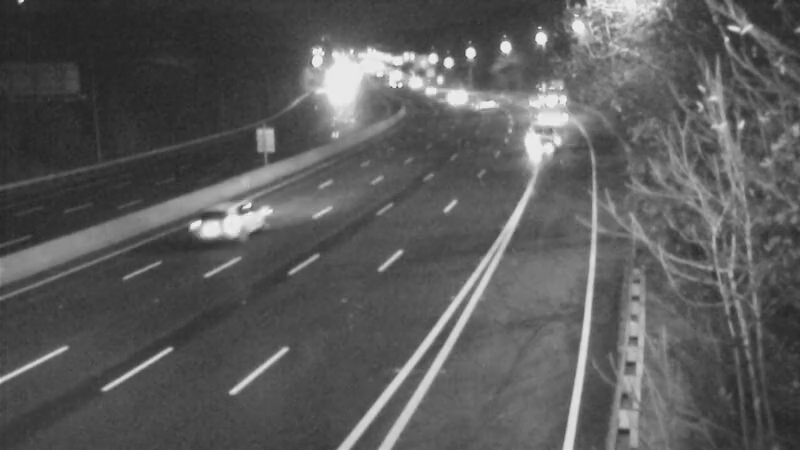vehicle: (175, 185, 255, 265), (408, 66, 458, 116), (433, 70, 483, 120), (457, 75, 507, 125), (524, 81, 574, 131), (516, 123, 566, 173)
